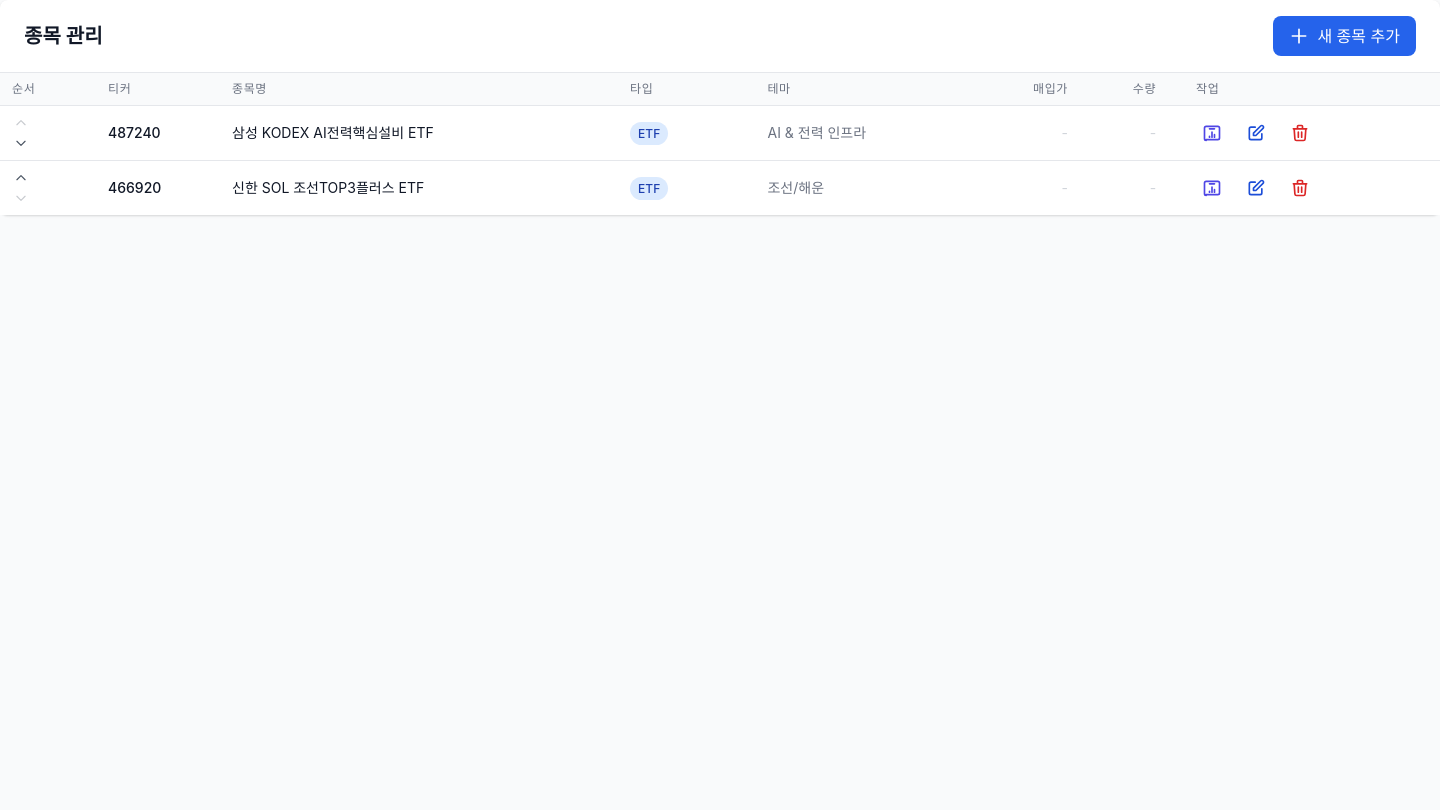
TickerManagementPanel 컴포넌트 › 종목 삭제 시 목록에서 즉시 제거된다
The image size is (1440, 810).
Check: the table is shown, box [0, 73, 1439, 215]
Click the button named "삭제" in the row of "487240": (1300,133) [1284, 117, 1316, 149]
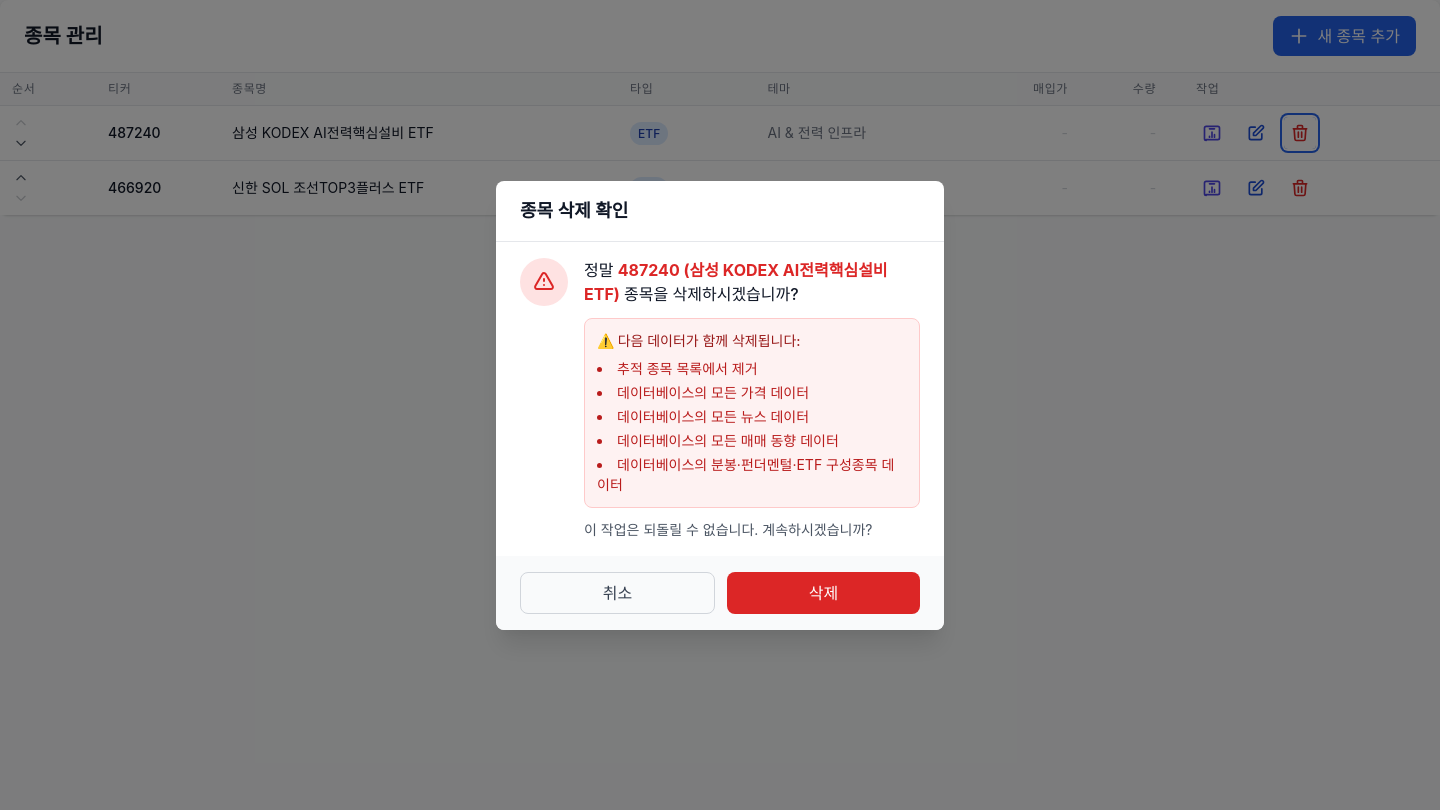
Check: the button "삭제" is shown
Click the button "삭제": (824,592) [727, 572, 920, 614]
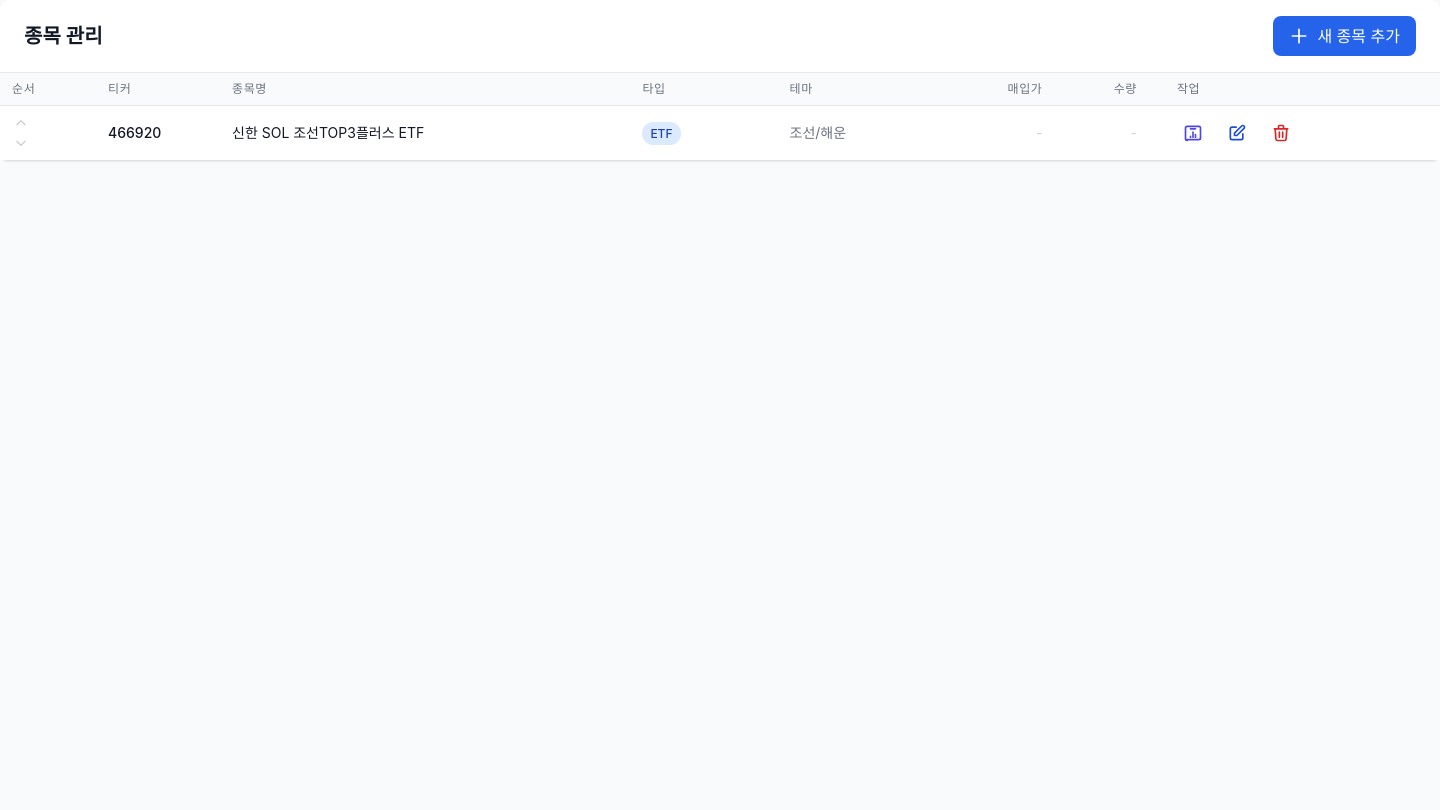
Check: the text "삼성 KODEX AI전력핵심설비 ETF" is gone
